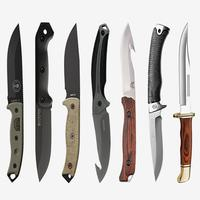knife: (141, 11, 173, 196), (113, 19, 144, 200), (27, 15, 58, 190), (85, 25, 116, 198), (171, 18, 200, 190), (58, 16, 87, 187), (3, 21, 29, 192)
